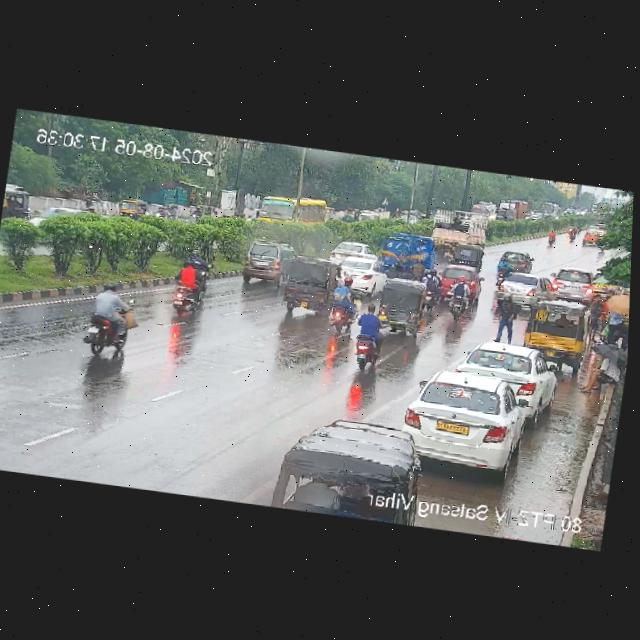bus: (253, 189, 329, 229), (469, 199, 498, 220)
car: (402, 367, 528, 468), (454, 340, 557, 412), (520, 296, 591, 361), (522, 294, 593, 353), (281, 255, 339, 314), (376, 276, 425, 331), (549, 262, 597, 301), (499, 268, 544, 304), (441, 263, 479, 296), (1, 189, 30, 221), (498, 250, 534, 271), (454, 242, 483, 266), (121, 197, 146, 220), (583, 228, 603, 248)
motorcycle: (83, 272, 147, 362), (166, 245, 220, 314), (351, 301, 387, 369), (327, 273, 359, 329), (448, 273, 472, 320), (419, 269, 438, 311), (545, 226, 559, 246), (568, 227, 576, 243)
person: (580, 339, 624, 396), (490, 287, 523, 344), (597, 286, 630, 342)
truck: (379, 229, 442, 280), (430, 205, 490, 252), (497, 193, 532, 225)
